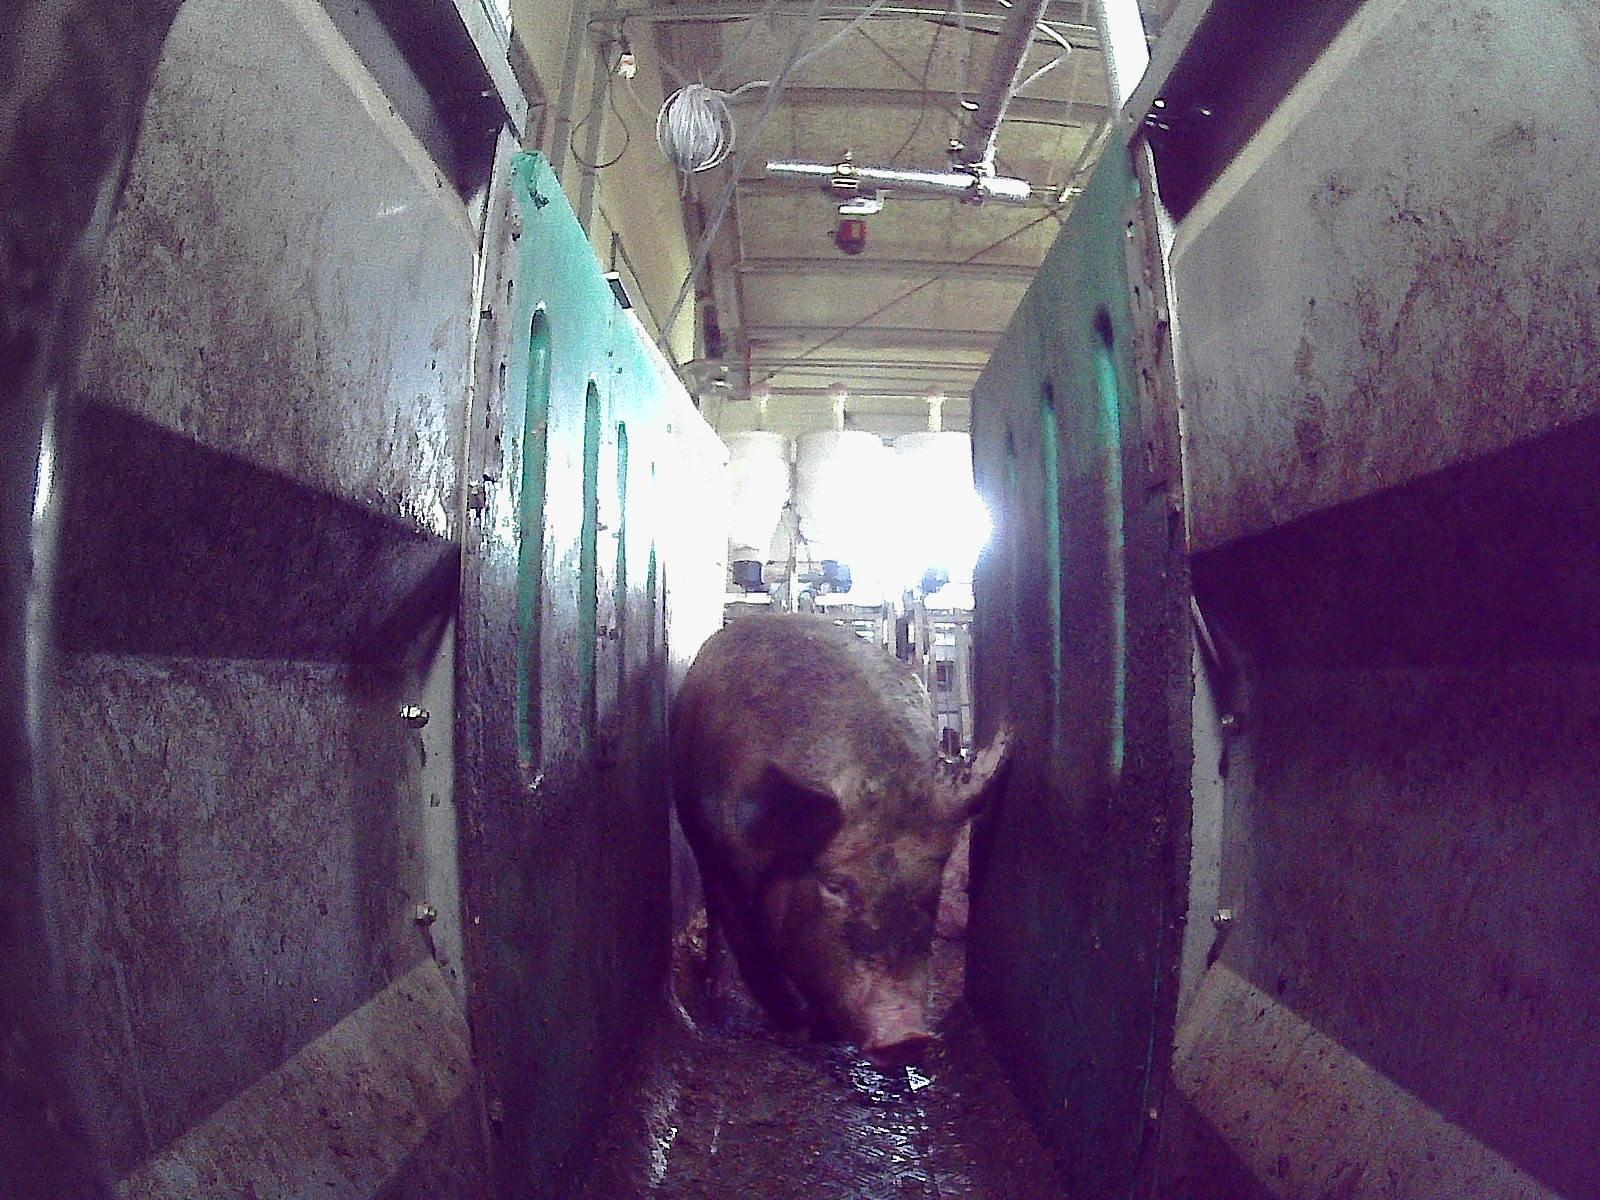Face: (781, 798, 947, 1065)
